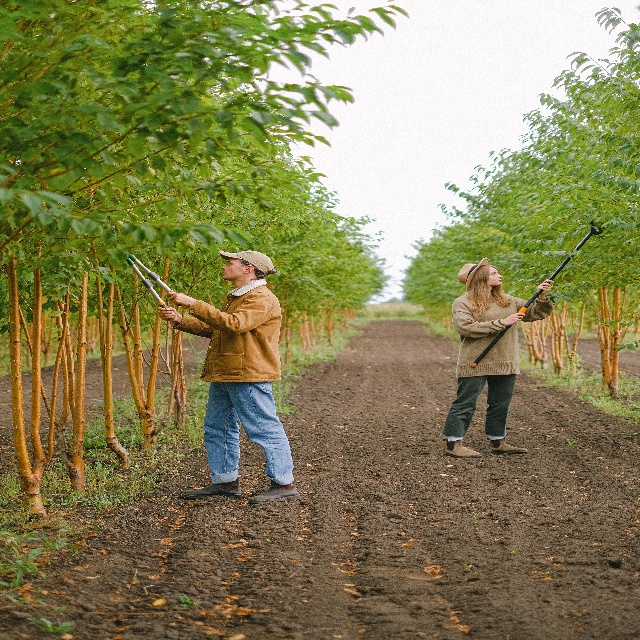Sin_guantes: (157, 303, 179, 324), (166, 290, 190, 307), (538, 275, 554, 294), (505, 311, 525, 326)
